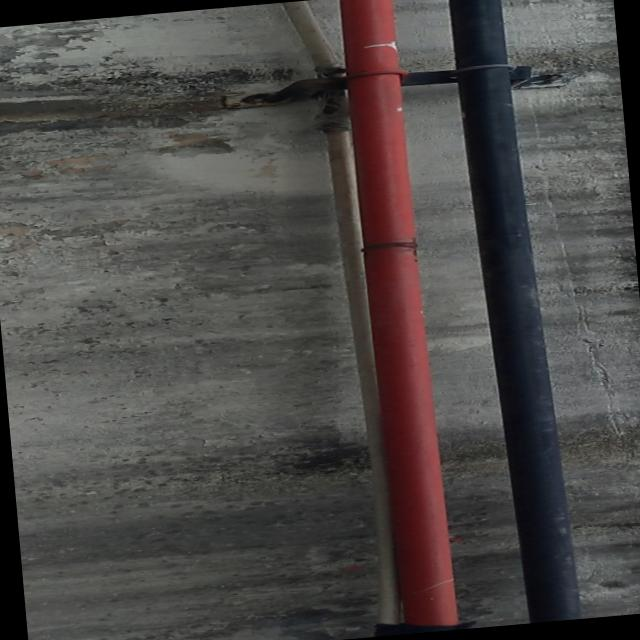gas: (441, 0, 586, 625), (336, 0, 460, 634)
